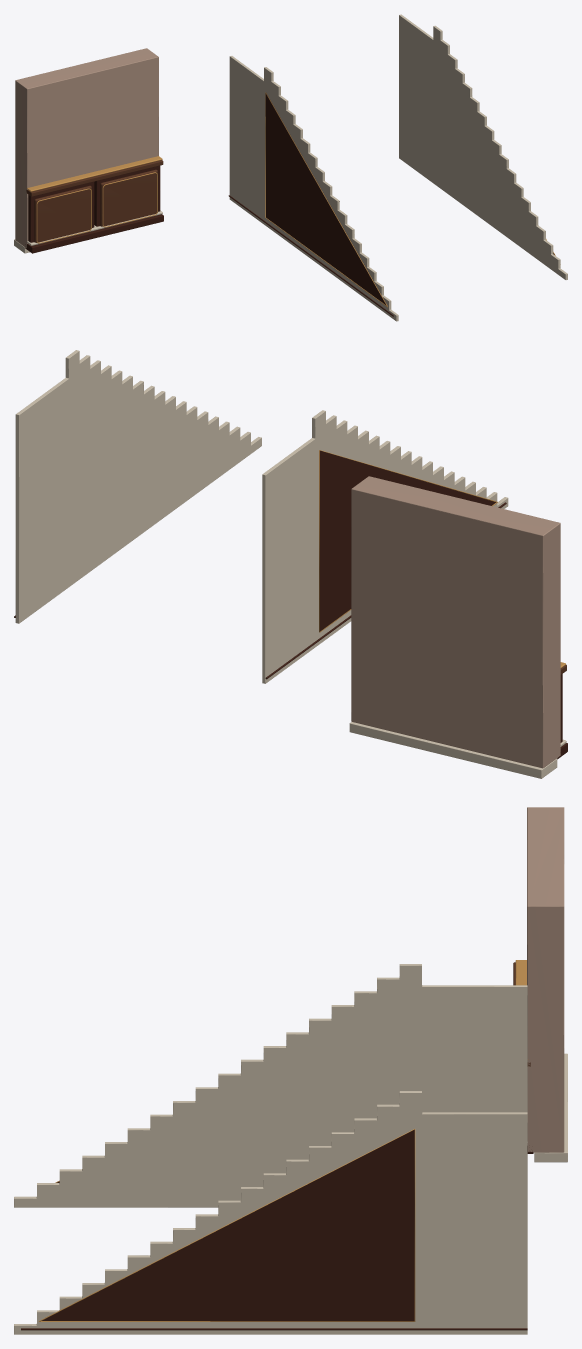
File: HotelH00_FourPointDelta.fbx
3 renders of one model, top to bottom at view 1: azimuth 30°, elevation 25°; view 2: azimuth 150°, elevation 25°; view 3: azimuth 270°, elevation 25°, orthographic. The views are drawn at different scales.
Visible parts, largest first — view 1: FP_LeftRearSolidMasonry, FP_ContinuousSteppedSlopedCheek_East, FP_ContinuousSteppedSlopedCheek_West, FP_RakedWalnutPanel_West, FP_Beveled raised walnut field.047, FP_Beveled raised walnut field.048, FP_Layered wall molding.060, FP_Layered wall molding.062, FP_Layered wall molding.063, FP_Walnut stile-and-rail frame.047, FP_Walnut stile-and-rail frame.048, FP_RakedPanelBead_West; view 2: FP_LeftRearSolidMasonry, FP_ContinuousSteppedSlopedCheek_East, FP_ContinuousSteppedSlopedCheek_West, FP_RakedWalnutPanel_West, FP_LeftRearFloorWallJoint; view 3: FP_ContinuousSteppedSlopedCheek_West, FP_ContinuousSteppedSlopedCheek_East, FP_RakedWalnutPanel_East, FP_LeftRearSolidMasonry, FP_StoneWallBaseBead_East, FP_RakedPanelBead_East, FP_LeftRearFloorWallJoint.
Boxes of the visible parts, x1,y1,x2,y2 form: FP_LeftRearSolidMasonry: (15,48,158,248); FP_ContinuousSteppedSlopedCheek_East: (399,14,567,279); FP_ContinuousSteppedSlopedCheek_West: (229,56,398,321); FP_RakedWalnutPanel_West: (265,93,386,305); FP_Beveled raised walnut field.047: (34,185,91,242); FP_Beveled raised walnut field.048: (100,169,157,226); FP_Layered wall molding.060: (25,214,163,253); FP_Layered wall molding.062: (26,160,163,196); FP_Layered wall molding.063: (27,156,162,191); FP_Walnut stile-and-rail frame.047: (28,182,94,242); FP_Walnut stile-and-rail frame.048: (94,165,160,226); FP_RakedPanelBead_West: (265,92,387,307); FP_LeftRearSolidMasonry: (351,476,560,768); FP_ContinuousSteppedSlopedCheek_East: (15,350,261,623); FP_ContinuousSteppedSlopedCheek_West: (262,410,508,683); FP_RakedWalnutPanel_West: (319,450,495,631); FP_LeftRearFloorWallJoint: (349,722,557,778); FP_ContinuousSteppedSlopedCheek_West: (14,964,527,1207); FP_ContinuousSteppedSlopedCheek_East: (14,1091,527,1334); FP_RakedWalnutPanel_East: (42,1129,414,1321); FP_LeftRearSolidMasonry: (527,807,564,1152); FP_StoneWallBaseBead_East: (21,1328,527,1330); FP_RakedPanelBead_East: (38,1129,415,1321); FP_LeftRearFloorWallJoint: (534,1053,567,1162).
Size of the model in its own units: 7.51 by 3.18 by 6.23.
